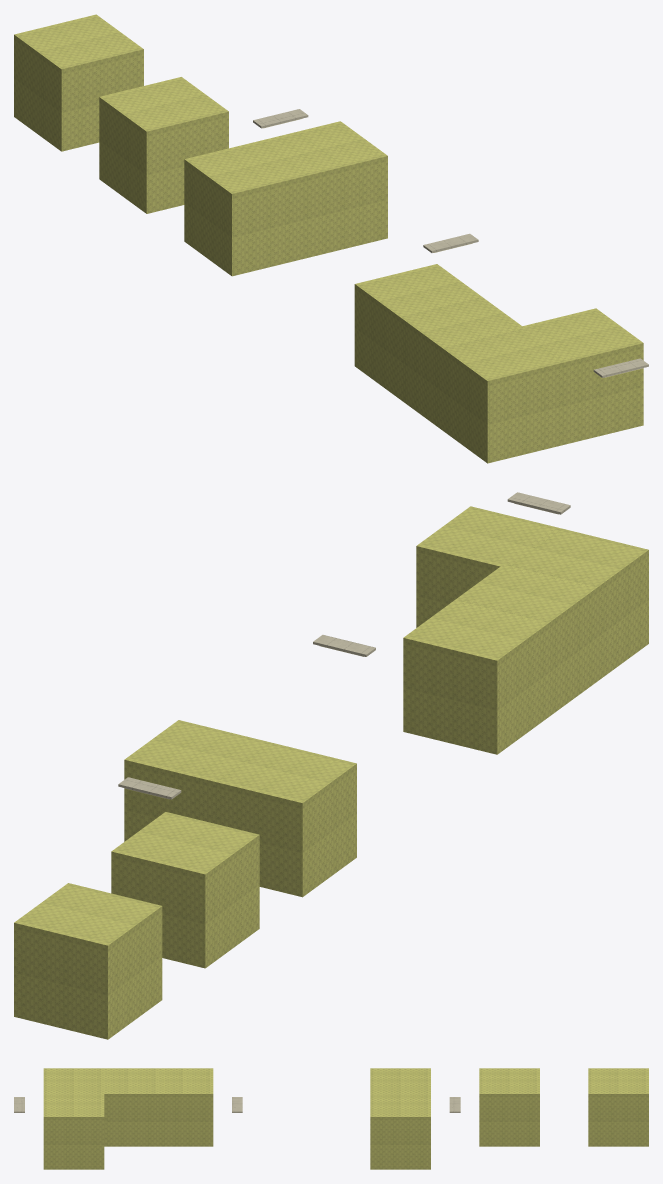
The model's file is level0_walls_2_1.obj.
3 renders of one model, top to bottom at view 1: azimuth 30°, elevation 25°; view 2: azimuth 150°, elevation 25°; view 3: azimuth 270°, elevation 25°, orthographic. The views are drawn at different scales.
Bounding box in the file's own units: 6.35 × 3.2 × 34.97.
3 materials, 2 textured.
